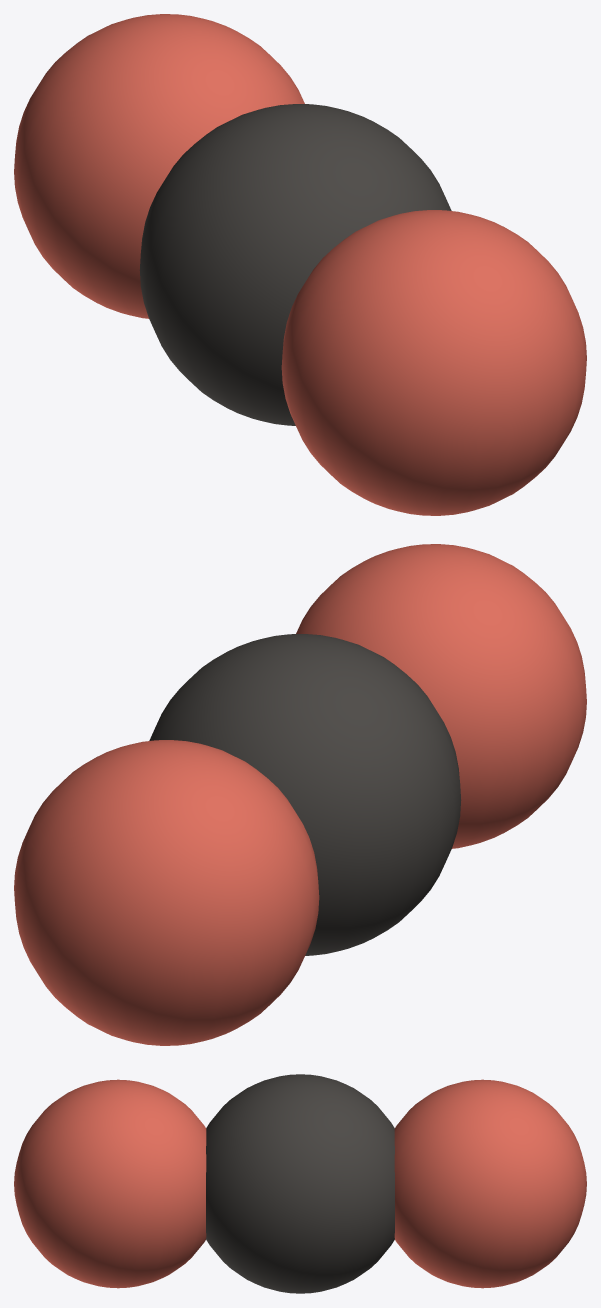
Rendered from carbon-dioxide.glb.
3 views of the same model, one above another, from view 1: azimuth 30°, elevation 25°; view 2: azimuth 150°, elevation 25°; view 3: azimuth 270°, elevation 25° (orthographic). The views are drawn at different scales.
Parts seen in each view (by area): view 1: atom-O-2, atom-C-0, atom-O-1; view 2: atom-O-1, atom-C-0, atom-O-2; view 3: atom-C-0, atom-O-1, atom-O-2.
Boxes of the visible parts, left/top/right/bottom form: atom-O-2: left=281, top=210, right=586, bottom=515; atom-C-0: left=139, top=104, right=451, bottom=425; atom-O-1: left=14, top=14, right=304, bottom=318; atom-O-1: left=14, top=740, right=319, bottom=1045; atom-C-0: left=149, top=634, right=461, bottom=955; atom-O-2: left=296, top=544, right=586, bottom=848; atom-C-0: left=206, top=1074, right=394, bottom=1293; atom-O-1: left=394, top=1079, right=586, bottom=1288; atom-O-2: left=14, top=1079, right=206, bottom=1288.
Bounding box in the file's own units: 0.8 × 0.8 × 2.09.
